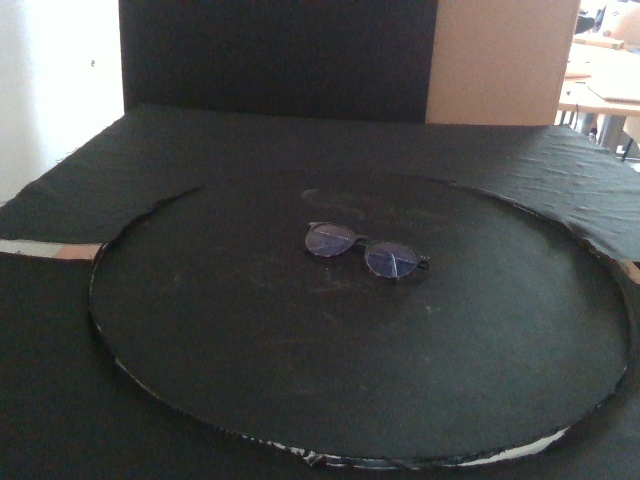glasses: (304, 219, 433, 282)
